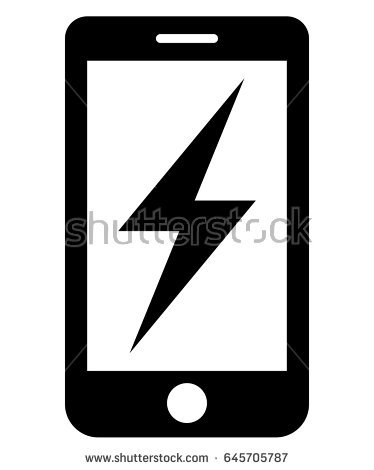charging sign: (50, 9, 325, 441)
